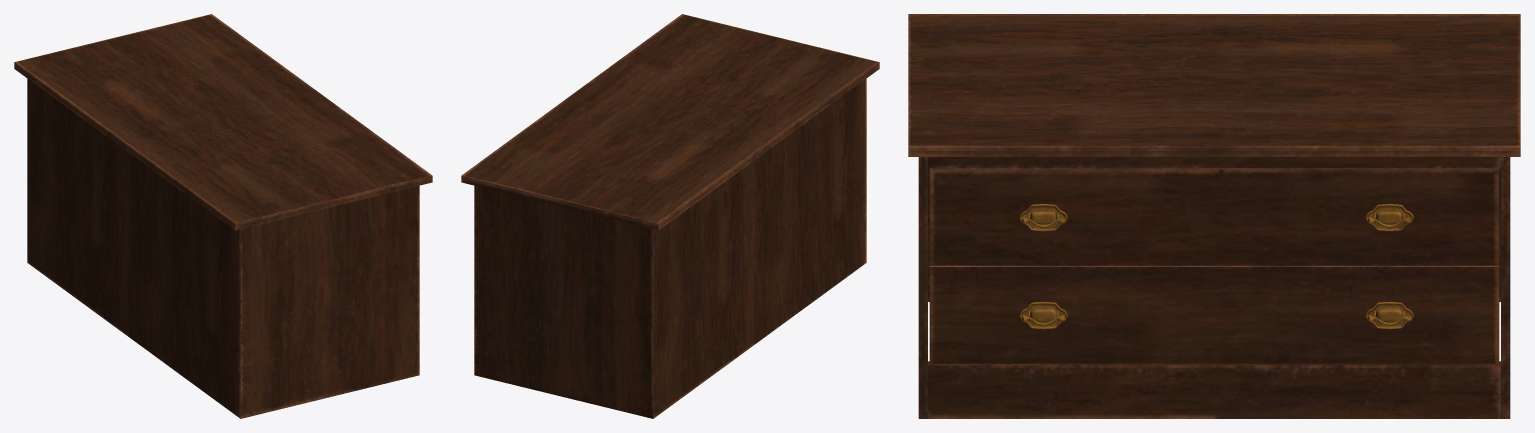
Rendered from chest_of_drawers.glb.
3 renders of one model, left to right at view 1: azimuth 30°, elevation 25°; view 2: azimuth 150°, elevation 25°; view 3: azimuth 270°, elevation 25°, orthographic. The views are drawn at different scales.
Parts seen in each view (by area): view 1: calaixera unida; view 2: calaixera unida; view 3: calaixera unida.
Boxes of the visible parts, x1,y1,x2,y2 form: calaixera unida: (14, 14, 432, 418); calaixera unida: (461, 14, 879, 418); calaixera unida: (908, 14, 1520, 418).
Size of the model in its own units: 0.64 by 0.62 by 1.24.
1 material, 1 textured.
